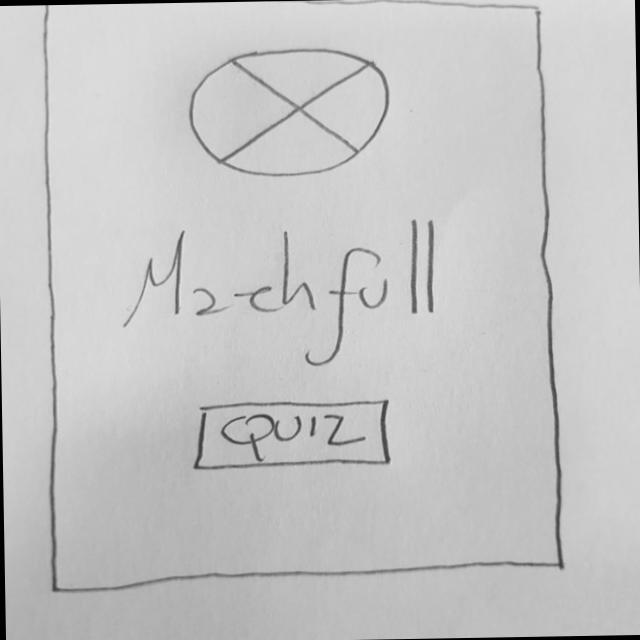button: (188, 397, 400, 473)
container: (30, 0, 568, 599)
image: (183, 42, 399, 185)
label: (111, 215, 462, 370)
